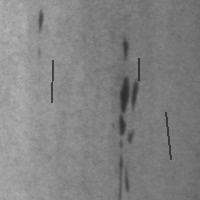inclusion: (116, 115, 135, 198), (115, 72, 140, 116), (163, 110, 172, 161), (33, 5, 46, 36), (120, 34, 130, 60), (49, 58, 54, 104), (136, 56, 140, 82)
